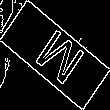M_SW: (25, 21, 85, 89)
